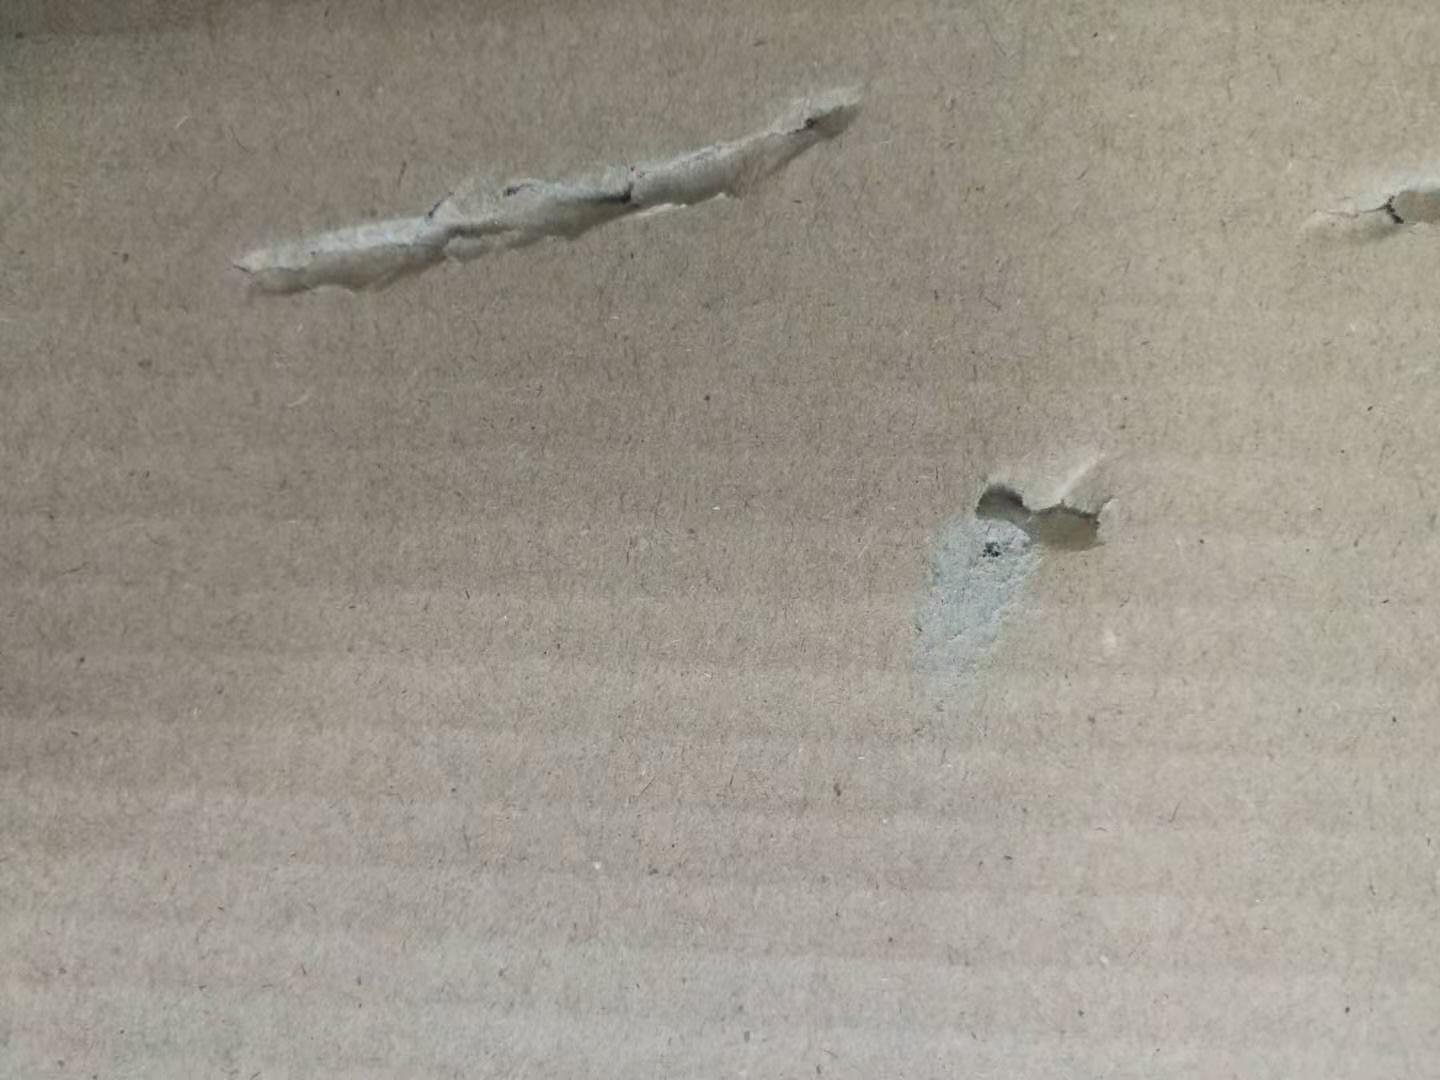defect: (211, 59, 900, 334), (876, 425, 1150, 742), (1286, 157, 1440, 277)
